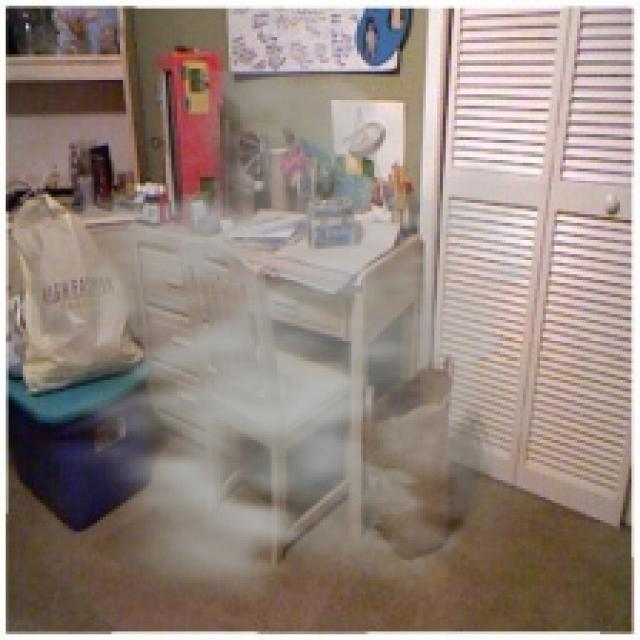Smoke: (31, 71, 600, 634)
